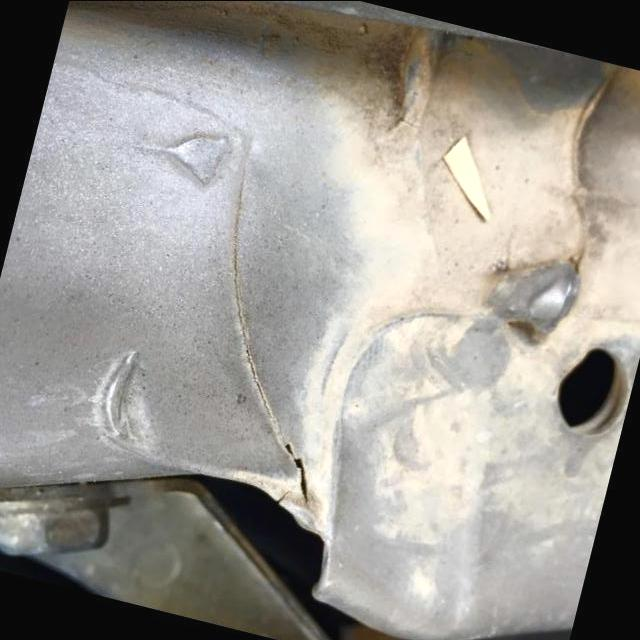defect: (231, 120, 312, 508), (276, 487, 293, 503)
